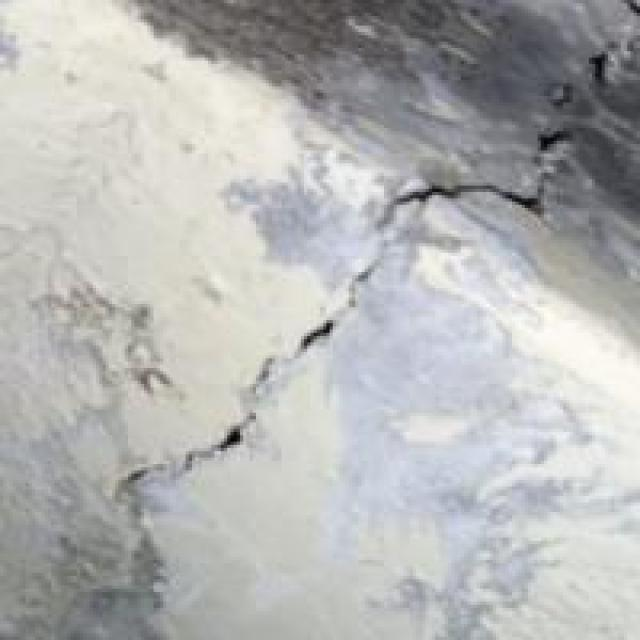Crack: (123, 49, 629, 516)
